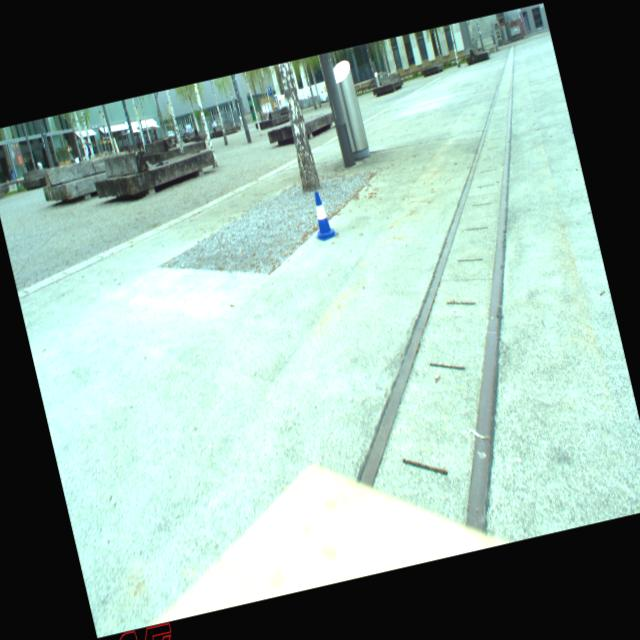blue_cone: (305, 188, 338, 244)
